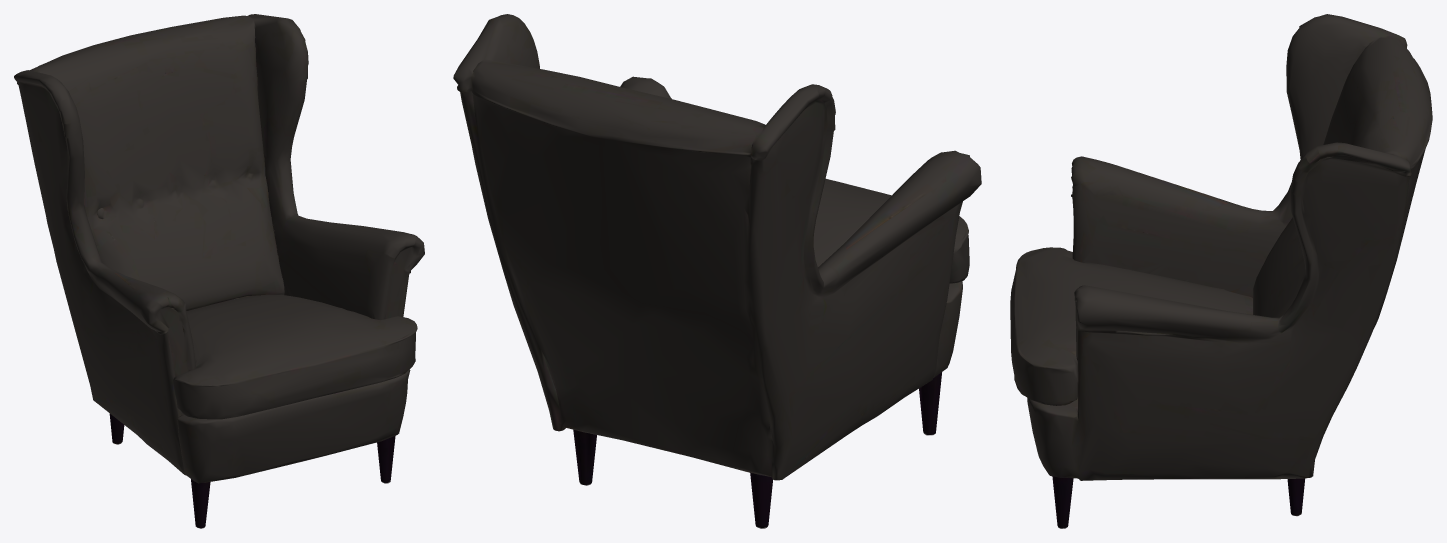
3 renders of one model, left to right at view 1: azimuth 30°, elevation 25°; view 2: azimuth 150°, elevation 25°; view 3: azimuth 270°, elevation 25°, orthographic. The views are drawn at different scales.
Parts seen in each view (by area): view 1: ProcessedMeshNode; view 2: ProcessedMeshNode; view 3: ProcessedMeshNode.
Part boxes in pixels (x1,y1,x2,y2): ProcessedMeshNode: [14, 14, 424, 528]; ProcessedMeshNode: [453, 14, 981, 528]; ProcessedMeshNode: [1010, 14, 1432, 528].
Size of the model in its own units: 0.8095 by 1.01 by 0.973.
Materials: 1 (1 with a texture image).
